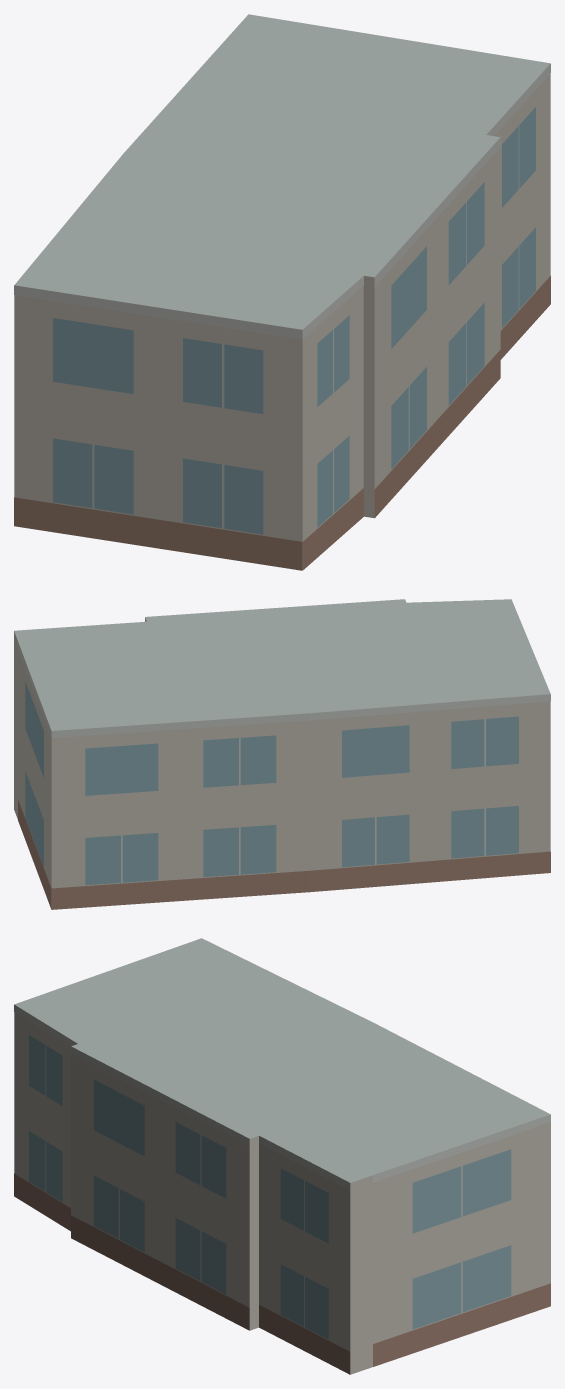
File: survey-upis-32774244.glb
3 views of the same model, one above another, from view 1: azimuth 30°, elevation 25°; view 2: azimuth 150°, elevation 25°; view 3: azimuth 270°, elevation 25° (orthographic). The views are drawn at different scales.
Parts seen in each view (by area): view 1: survey-upis-32774244.tmp; view 2: survey-upis-32774244.tmp; view 3: survey-upis-32774244.tmp.
Boxes of the visible parts, x1,y1,x2,y2 form: survey-upis-32774244.tmp: (14,14,550,570); survey-upis-32774244.tmp: (14,599,550,909); survey-upis-32774244.tmp: (14,938,550,1374).
Bounding box in the file's own units: 16.7 × 6.1 × 15.47.
